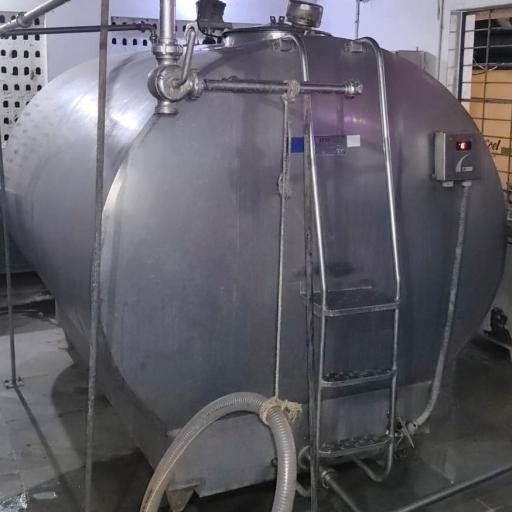silo: (2, 24, 508, 497)
